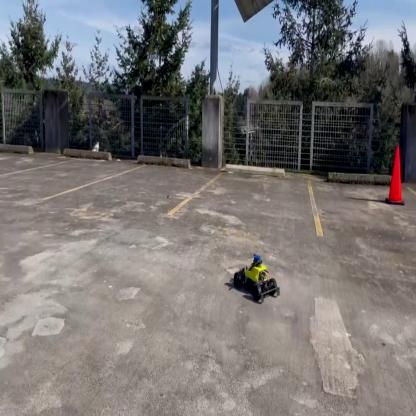cone: (385, 145, 405, 207)
mushr_car: (232, 249, 282, 308)
